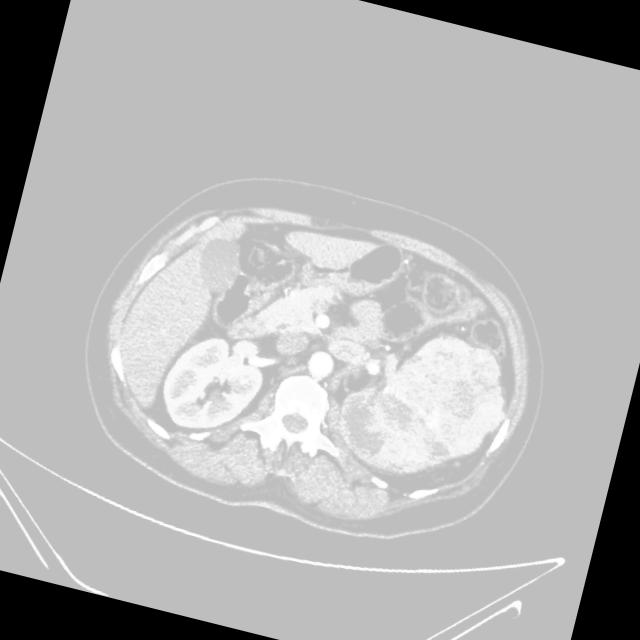TUMOR: (107, 254, 520, 478)
